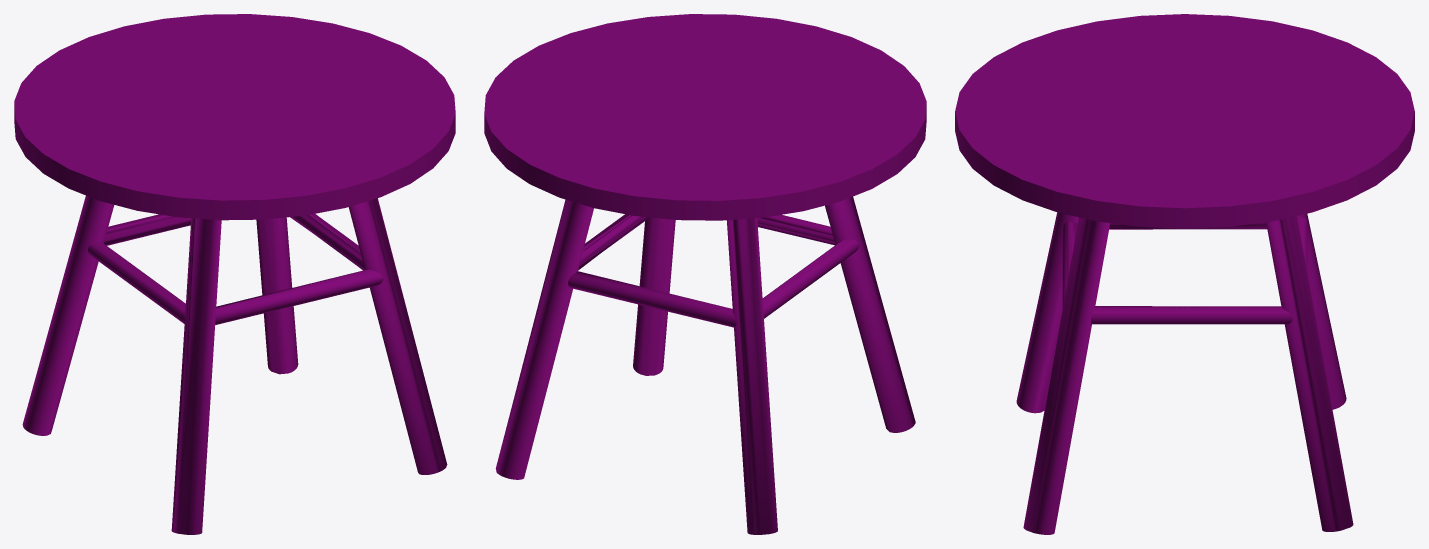
File: stool.fbx
3 views of the same model, side by side, from view 1: azimuth 30°, elevation 25°; view 2: azimuth 150°, elevation 25°; view 3: azimuth 270°, elevation 25° (orthographic). The views are drawn at different scales.
Visible parts, largest first — view 1: Cylinder; view 2: Cylinder; view 3: Cylinder.
Part boxes in pixels (<box>): Cylinder: <box>14,14,455,534</box>; Cylinder: <box>484,14,926,534</box>; Cylinder: <box>955,14,1414,534</box>.
Bounding box in the file's own units: 75.4 × 64.77 × 75.4.
